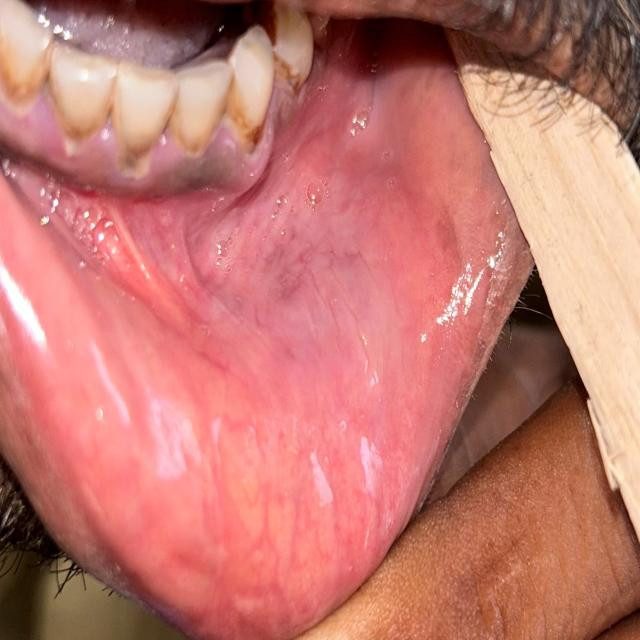leukoplakia-detection: (171, 169, 399, 401)
processing_area: (0, 67, 530, 633)
